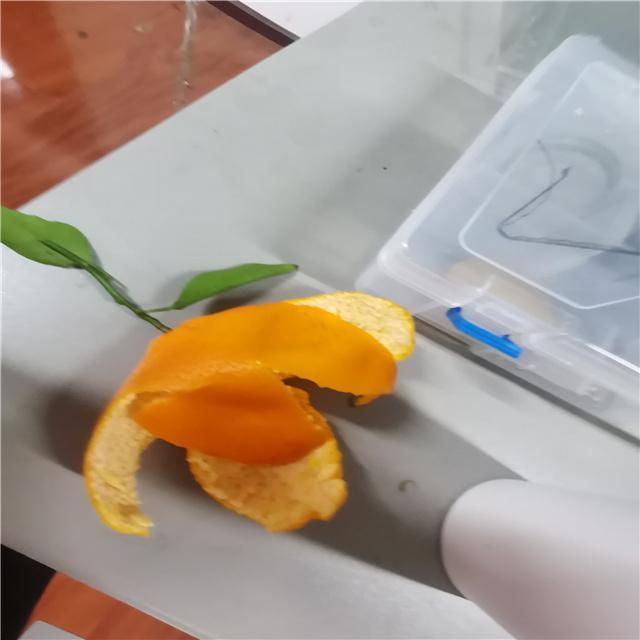orange peel: (85, 290, 419, 540)
